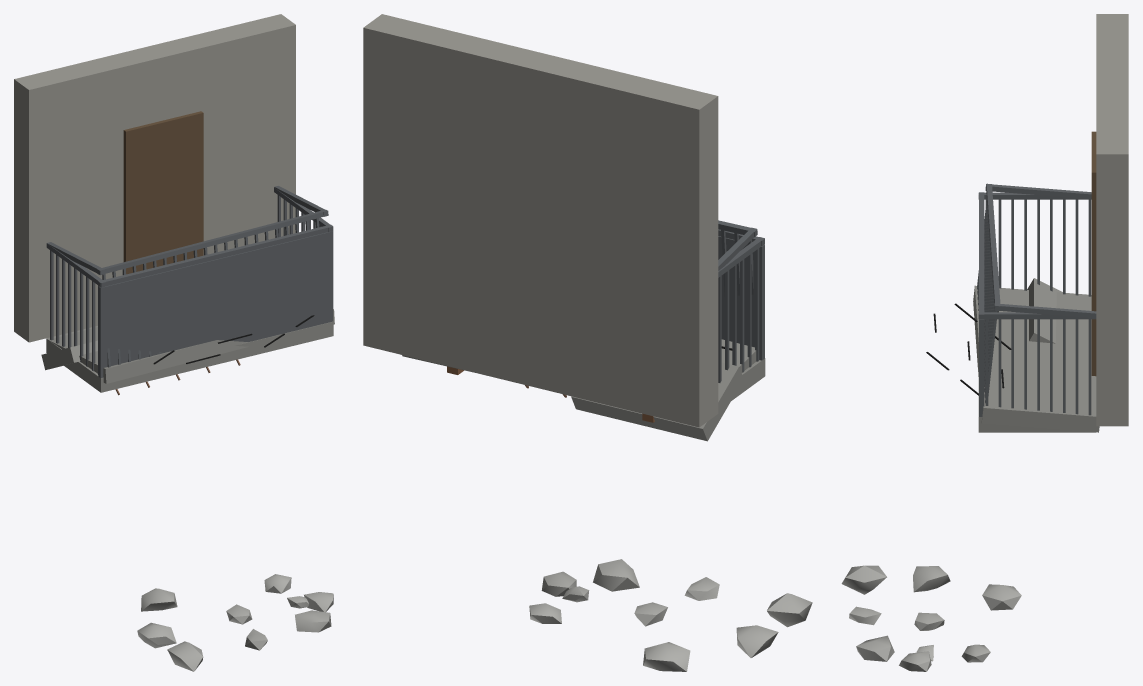
The model's file is balcony_danger.glb.
3 renders of one model, left to right at view 1: azimuth 30°, elevation 25°; view 2: azimuth 150°, elevation 25°; view 3: azimuth 270°, elevation 25°, orthographic. The views are drawn at different scales.
Visible parts, largest first — view 1: wall, rail, door_closed_panel, slab.002, slab.001, rail_top, rail_top.001, chunk.006, slab_stub, chunk.004, chunk.002, chunk.005; view 2: wall, slab_stub, rail, chunk.005, chunk.002, chunk.006, chunk.004; view 3: wall, slab.001, door_closed_panel, slab_stub, chunk.006, rail_top.001, chunk.005, rail_top_side.002, chunk.004, rail_top_side.003, rail_top, chunk.002 (+6 smaller).
Part boxes in pixels (bbox=[...]): wall: bbox=[14, 14, 295, 342]; rail: bbox=[98, 231, 333, 377]; door_closed_panel: bbox=[123, 111, 203, 274]; slab.002: bbox=[46, 321, 333, 392]; slab.001: bbox=[48, 309, 334, 383]; rail_top: bbox=[98, 225, 332, 287]; rail_top.001: bbox=[97, 209, 328, 274]; chunk.006: bbox=[167, 641, 203, 671]; slab_stub: bbox=[41, 340, 97, 370]; chunk.004: bbox=[137, 622, 176, 648]; chunk.002: bbox=[295, 610, 331, 632]; chunk.005: bbox=[141, 588, 177, 611]; wall: bbox=[363, 14, 718, 427]; slab_stub: bbox=[571, 362, 743, 441]; rail: bbox=[718, 236, 764, 360]; chunk.005: bbox=[643, 642, 690, 671]; chunk.002: bbox=[593, 559, 639, 591]; chunk.006: bbox=[767, 593, 812, 627]; chunk.004: bbox=[736, 625, 778, 657]; wall: bbox=[1096, 14, 1128, 426]; slab.001: bbox=[973, 285, 1099, 432]; door_closed_panel: bbox=[1091, 131, 1096, 376]; slab_stub: bbox=[1027, 278, 1062, 343]; chunk.006: bbox=[841, 565, 886, 594]; rail_top.001: bbox=[986, 183, 1000, 310]; chunk.005: bbox=[982, 584, 1021, 610]; rail_top_side.002: bbox=[985, 184, 1091, 199]; chunk.004: bbox=[913, 566, 950, 592]; rail_top_side.003: bbox=[994, 303, 1096, 318]; rail_top: bbox=[979, 192, 984, 319]; chunk.002: bbox=[856, 635, 894, 661].
Size of what is drawn, in the model's own units: 3.1 by 5.7 by 2.68.
